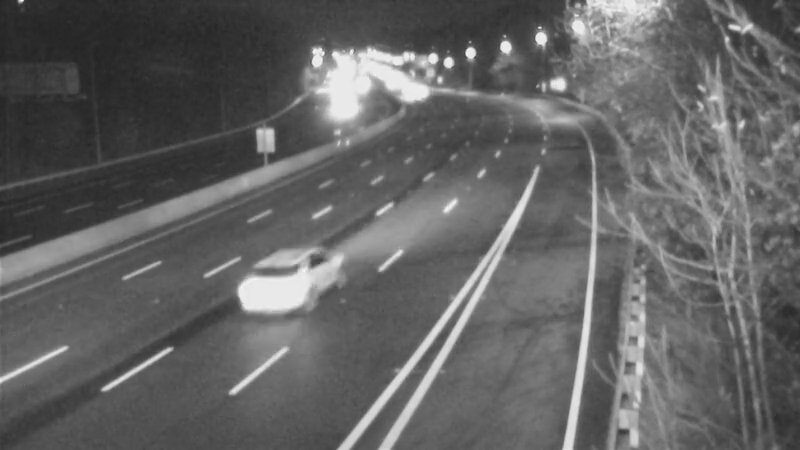vehicle: (230, 242, 310, 322)
